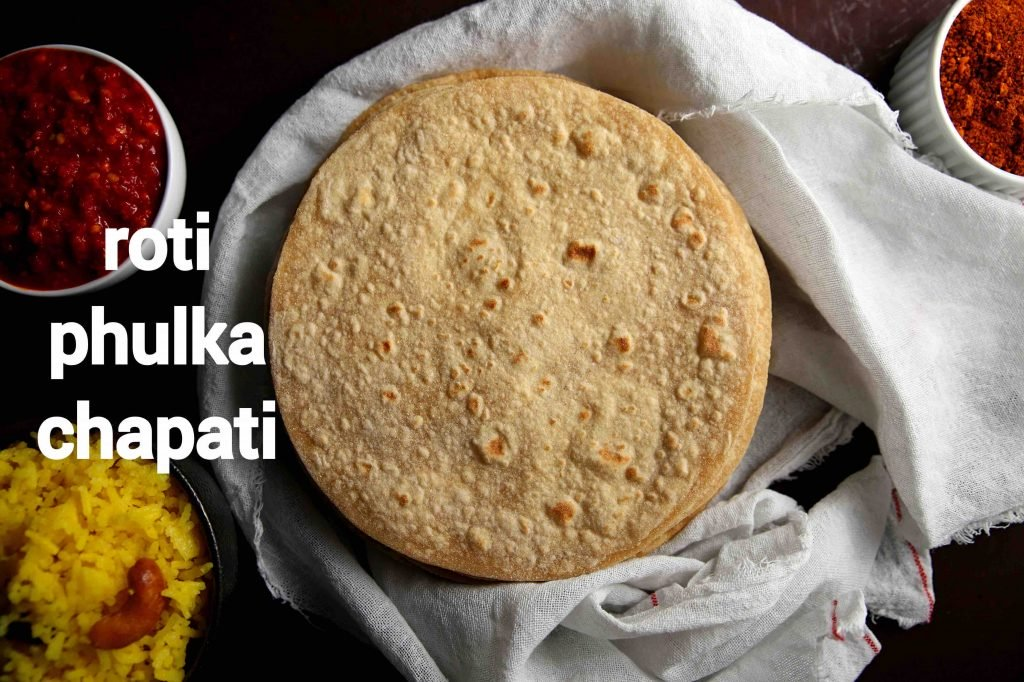roti: (262, 74, 774, 582)
